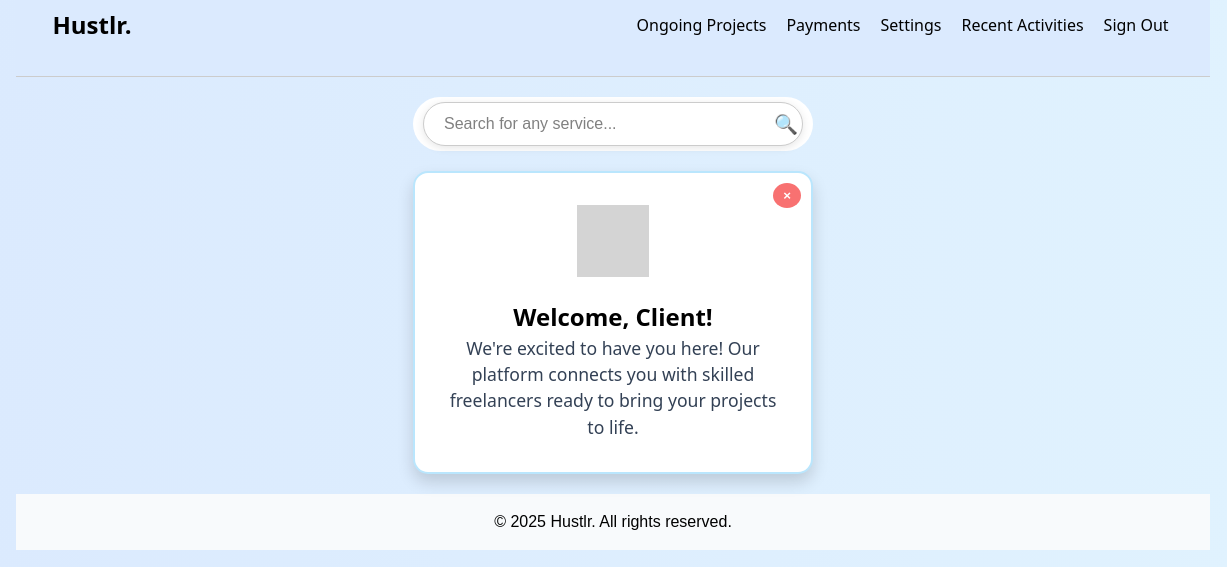
Test case: Client Component › Client Component Search Functionality › shows "No matching categories found" when search has no results
// Close welcome message first
Click the button "×" at {"x": 787, "y": 195}, box x1=773 y1=183 x2=801 y2=208
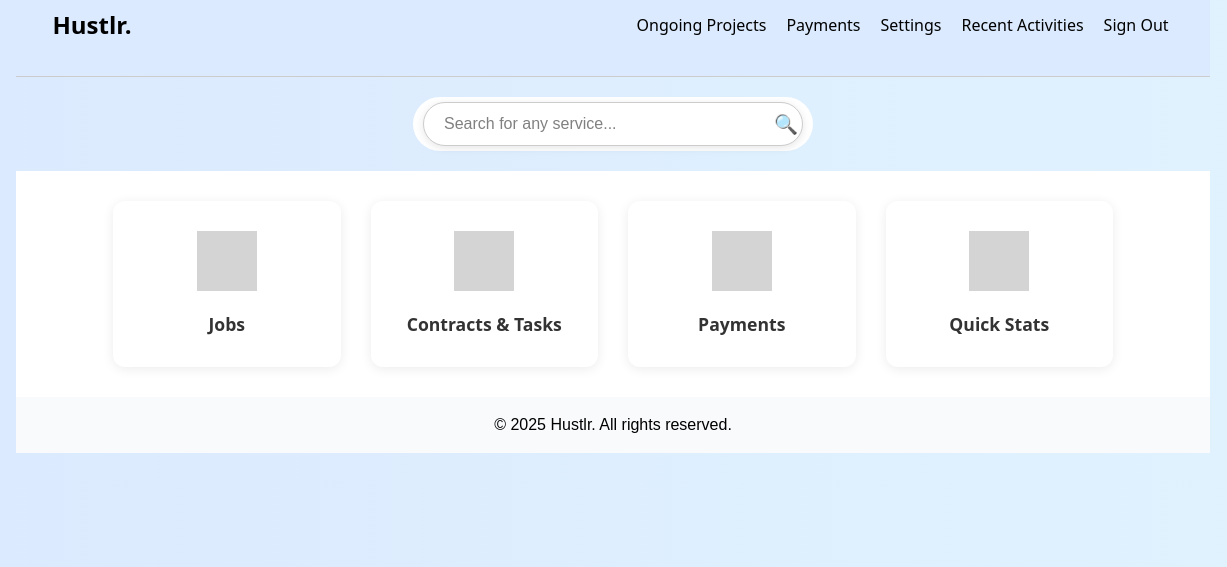
Type "nonexistent term" into the field with placeholder "Search for any service..." at {"x": 613, "y": 124}, box x1=423 y1=102 x2=803 y2=146
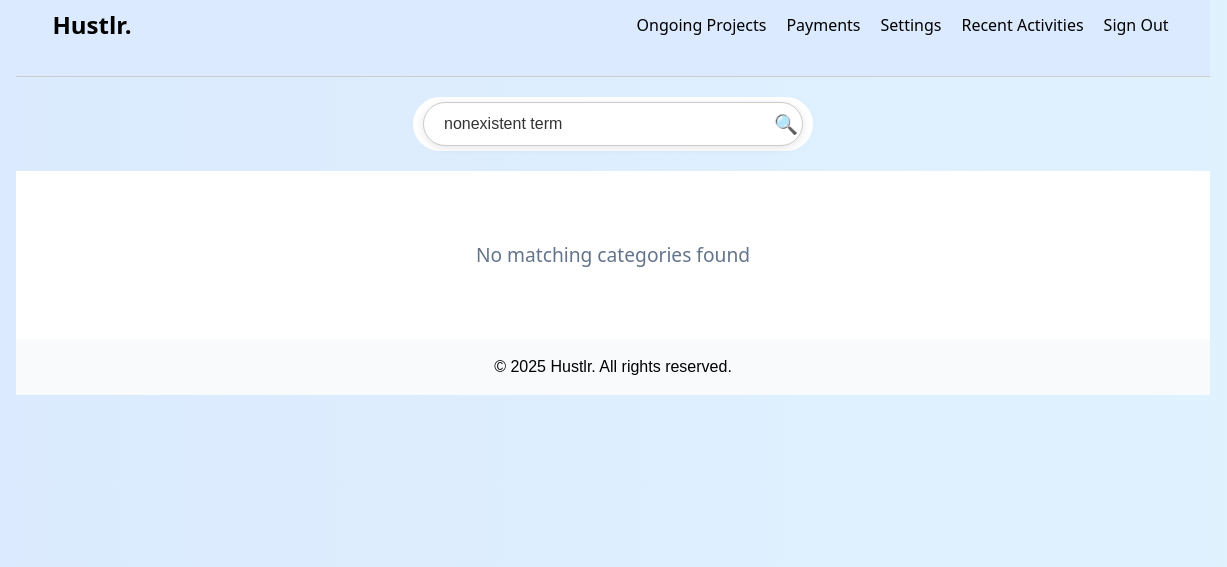
Check: the text "No matching categories found" is shown, box x1=476 y1=241 x2=750 y2=268
Check: the link "Jobs" is gone
